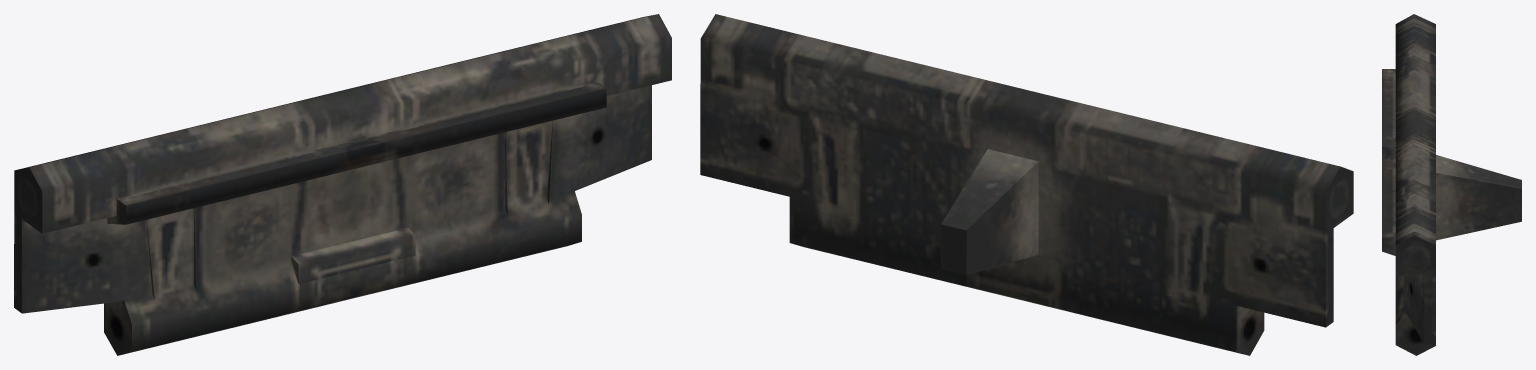
3 views of the same model, side by side, from view 1: azimuth 30°, elevation 25°; view 2: azimuth 150°, elevation 25°; view 3: azimuth 270°, elevation 25° (orthographic). The views are drawn at different scales.
Parts seen in each view (by area): view 1: set_0_group_0; view 2: set_0_group_0; view 3: set_0_group_0.
Part boxes in pixels (x1,y1,x2,y2): set_0_group_0: (14,14,671,355); set_0_group_0: (700,14,1353,355); set_0_group_0: (1382,14,1521,355).
Size of the model in its own units: 0.7 by 0.2246 by 0.187.
Materials: 1 (1 with a texture image).
